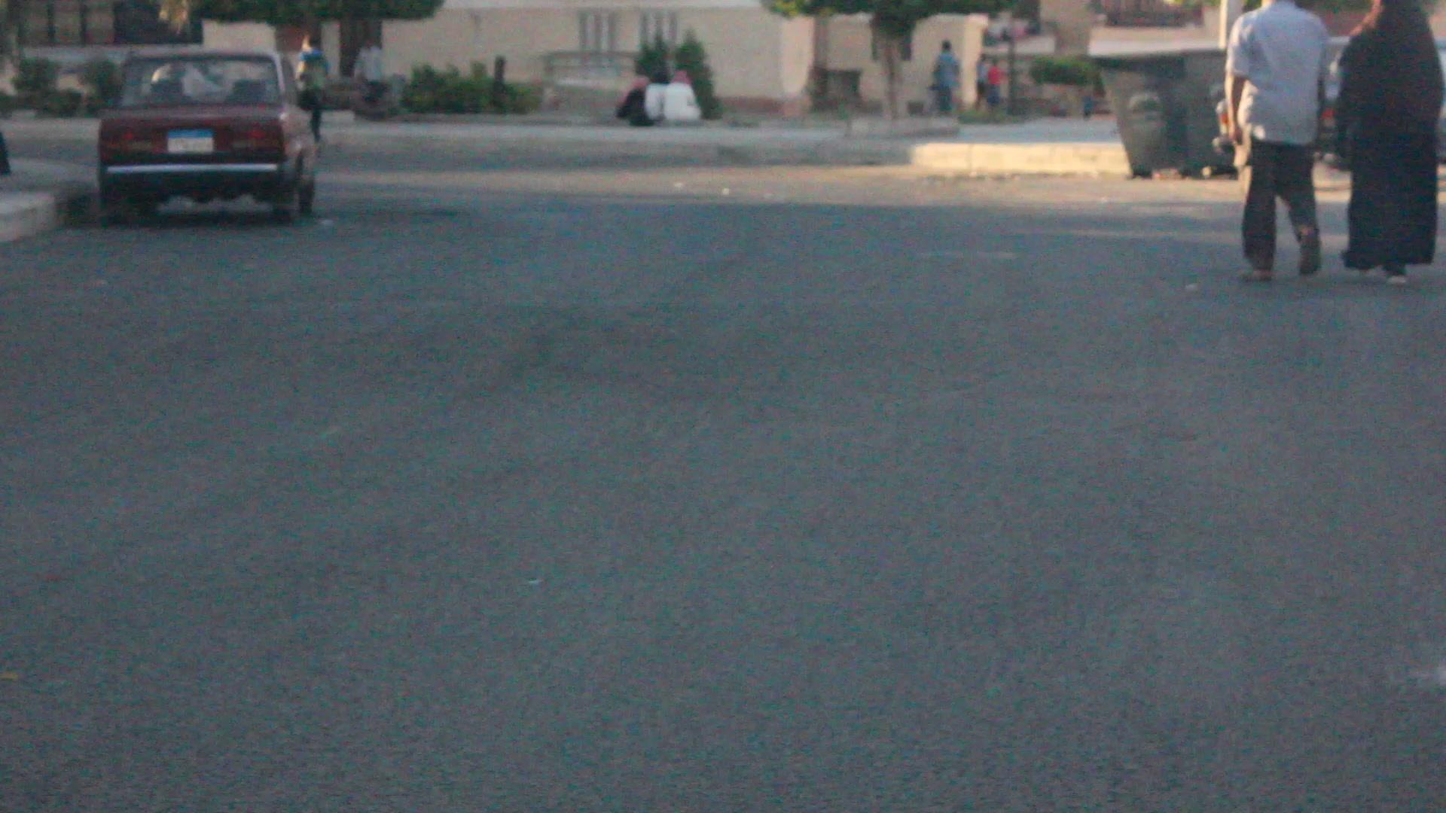Bump: (0, 290, 1446, 412)
